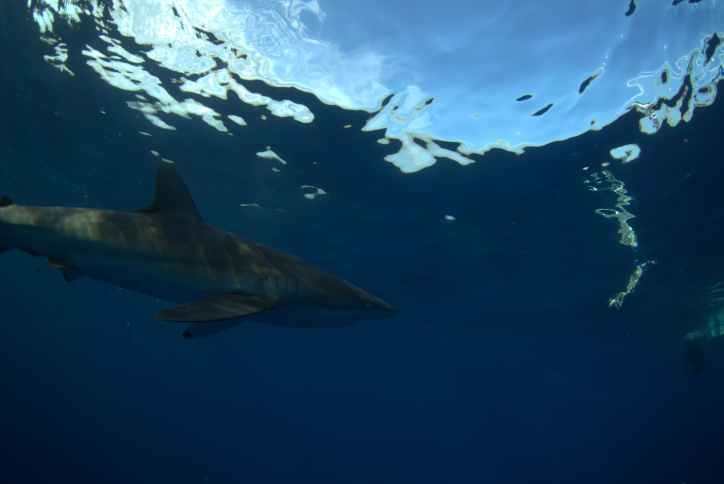Sedoso: (1, 134, 409, 353)
